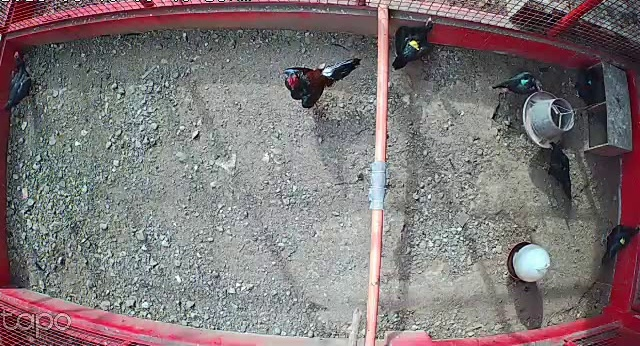Chicken: (391, 10, 442, 72), (2, 45, 46, 114), (535, 136, 578, 202), (596, 215, 640, 268), (488, 64, 546, 99)
Rooster: (283, 47, 363, 111)
Saddle_Color_Yellow: (404, 35, 421, 51)
